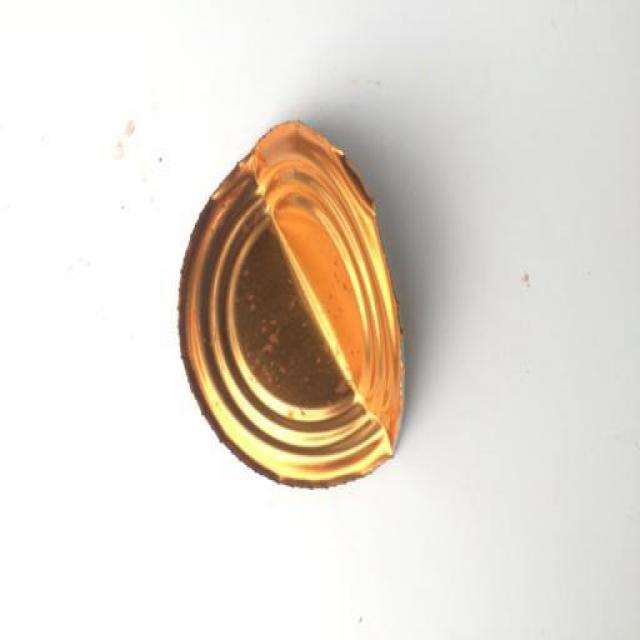metel: (182, 151, 416, 466)
